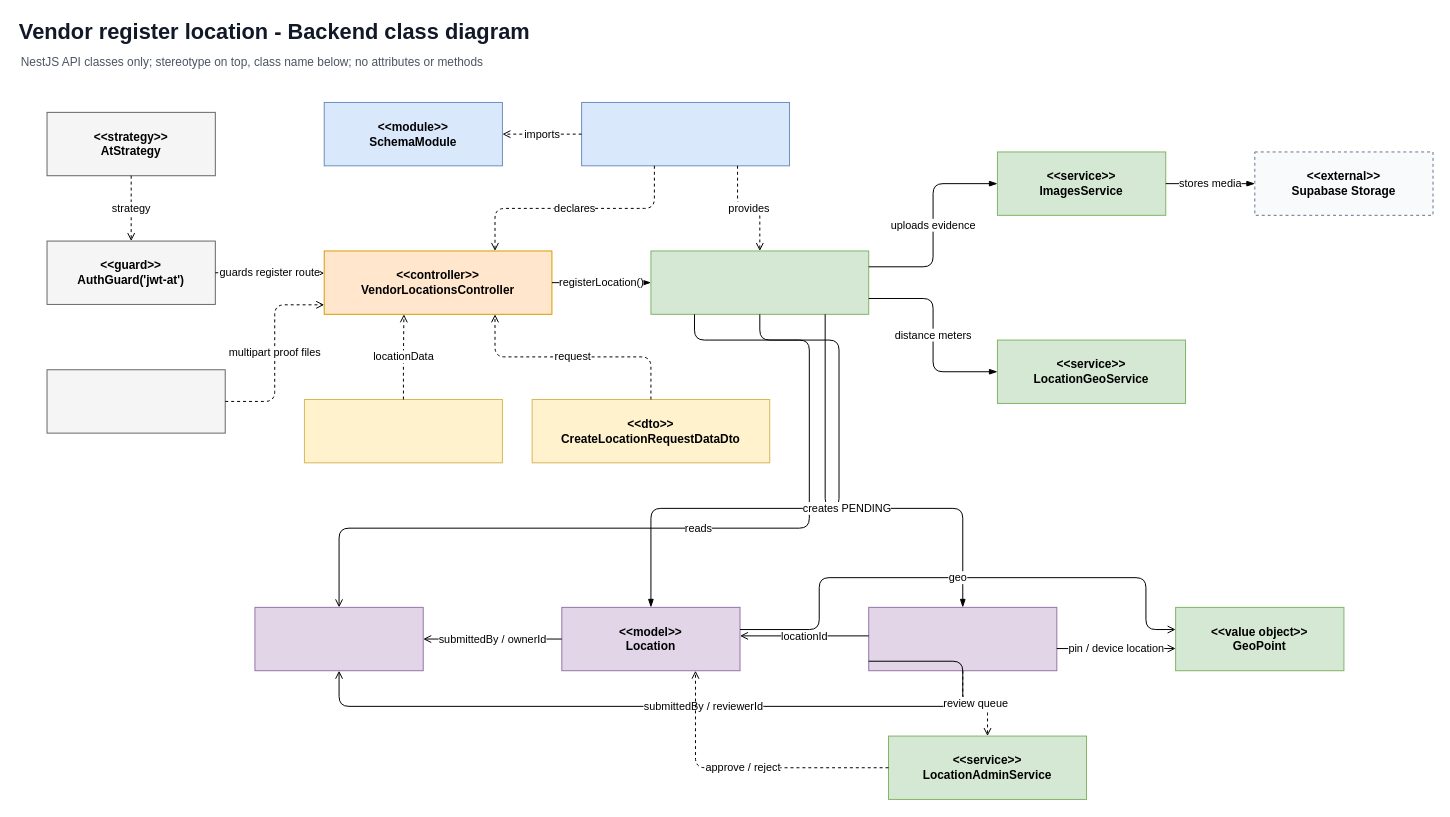
This 1450x817 diagram has some shape labels left out. Here are the shapes that lost their labels. From the top down, the centre of each, then its label:
[685,133]: <<module>> VendorLocationsModule
[759,282]: <<service>> VendorLocationsService
[135,401]: <<interceptor>> FileFieldsInterceptor
[402,430]: <<dto>> CreateLocationDto
[338,638]: <<model>> User
[962,638]: <<model>> LocationRequest
